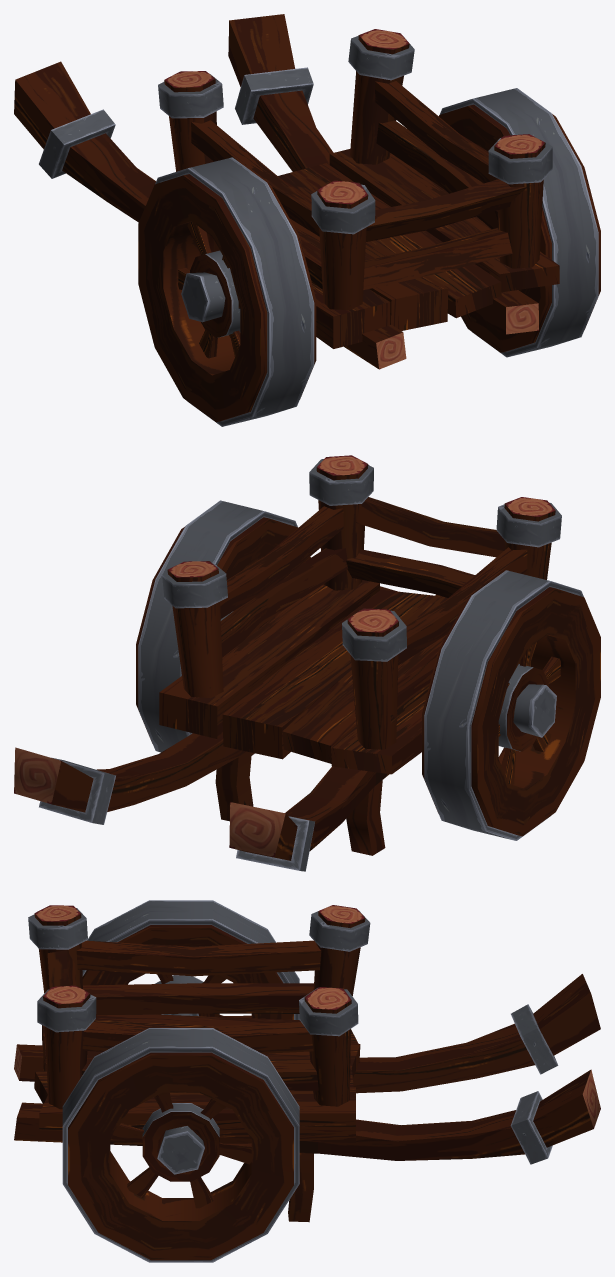
File: carretilla02.glb
3 views of the same model, one above another, from view 1: azimuth 30°, elevation 25°; view 2: azimuth 150°, elevation 25°; view 3: azimuth 270°, elevation 25° (orthographic). The views are drawn at different scales.
Parts seen in each view (by area): view 1: carretilla02; view 2: carretilla02; view 3: carretilla02.
Part boxes in pixels (x1,y1,x2,y2): carretilla02: (14, 14, 600, 426); carretilla02: (14, 455, 600, 871); carretilla02: (14, 900, 600, 1262).
Bounding box in the file's own units: 2.75 × 1.94 × 4.38.
3 materials, 3 textured.
